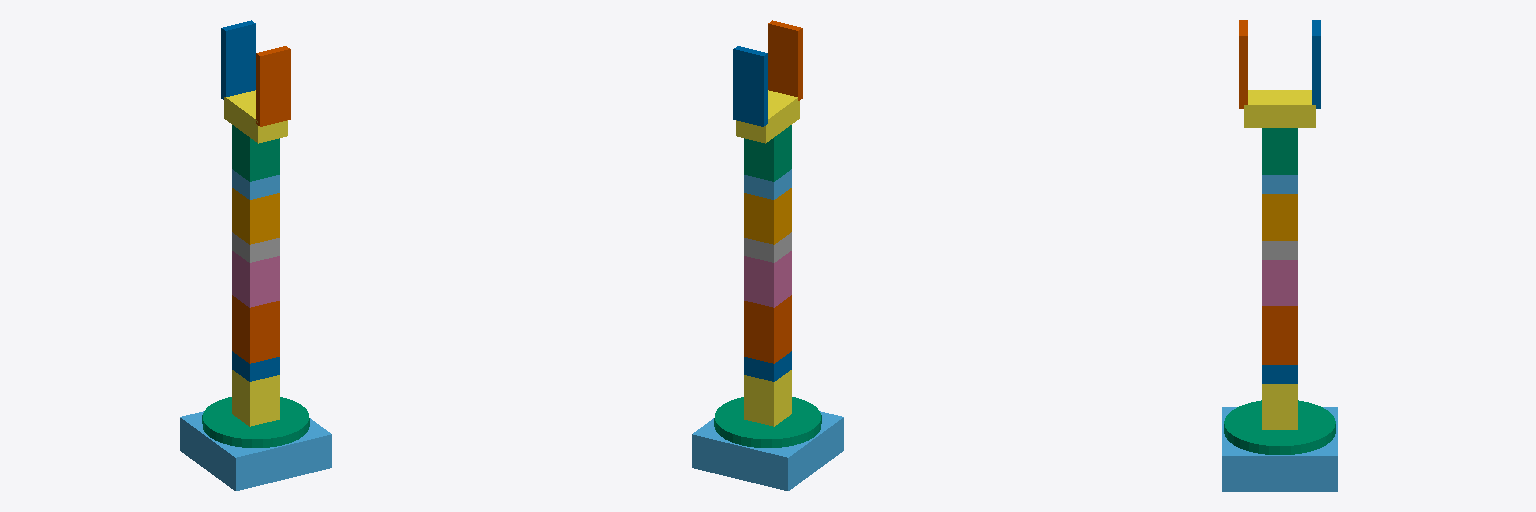
URDF robot description (crustcrawler):
<?xml version="1.0"?>
<robot name="crustcrawler">

<!-- Fixing robot to world frame-->
<link name="world">
  <origin xyz="0 0 -100" rpy="0 0 0"/>
</link>
<joint name="fixed" type="fixed">
    <parent link="world"/>
    <child link="base_link"/>
</joint>

<!-- Base -->
<link name="base_link">
  <visual>
    <geometry>
      <box size ="0.1143 0.1143 0.0381"/>
    </geometry>
    <origin xyz="0 0 0" rpy="0 0 0"/>
  </visual>
<inertial>
  <origin xyz="0 0 0" rpy="0 0 0"/>
  <mass value="2"/>
  <inertia ixx="1" ixy="0" ixz="0" iyy="1" iyz="0" izz="1" />
</inertial>
</link>

<!-- First Joint -->
<link name="turntable">
  <visual>
    <geometry>
      <cylinder radius= "0.055" length= "0.01"/>
    </geometry>
    <origin xyz ="0 0 0" rpy="0 0 0"/>
  </visual>
  <inertial>
     <origin xyz="0 0 0" rpy="0 0 0"/>
     <mass value="0.05"/>
     <inertia ixx="0.082" ixy="0" ixz="0" iyy="0.082" iyz="0" izz="0.076" />
   </inertial>

</link>
<joint name="base_to_turntable" type="continuous">
  <parent link="base_link"/>
  <child link="turntable"/>
  <origin xyz="0 0 0.02405" rpy="0 0 0"/>
  <axis xyz ="0 0 1"/>
</joint>


<!-- Second Joint -->
<link name="second_motor">
  <visual>
    <geometry>
      <box size ="0.0356 0.0355 0.0506"/>
    </geometry>
    <origin xyz ="0 0 0.0253" rpy="0 0 0"/>
  </visual>
<inertial>
   <origin xyz="0 0 0.0253" rpy="0 0 0"/>
   <mass value="0.126"/>
   <inertia ixx="0.04" ixy="0" ixz="0"
            iyy="0.04" iyz="0"
            izz="0.0456" />
 </inertial>
</link>
<joint name="turntable_to_second_motor" type="fixed">
  <parent link="turntable"/>
  <child link="second_motor"/>
  <origin xyz="0 0 0.005" rpy="0 0 0"/>
  <axis xyz ="1 0 0"/>
</joint>

<link name="first_mounting_plate">
  <visual>
    <geometry>
      <box size ="0.0356 0.0355 0.0206"/>
    </geometry>
    <origin xyz ="0 0 0.0103" rpy="0 0 0"/>
  </visual>
<inertial>
   <origin xyz="0 0 0.0103" rpy="0 0 0"/>
   <mass value="0.01"/>
   <inertia ixx="0.0014" ixy="0" ixz="0"
            iyy="0.0014" iyz="0"
            izz="0.0021" />
 </inertial>
</link>
<joint name="second_motor_to_first_mounting_plate" type="continuous">
  <parent link="second_motor"/>
  <child link="first_mounting_plate"/>
  <origin xyz="0 0 0.0506" rpy="0 0 0" />
  <axis xyz ="1 0 0"/>
  <limit effort="0.1" velocity="50"/>
</joint>
<!-- over var det rpy = 1.57 0 0-->

<!-- Girder -->
<link name="girder">
  <visual>
    <geometry>
    <box size ="0.0356 0.0355 0.0635"/>
    </geometry>
    <origin xyz ="0 0 0.03175" rpy="0 0 0"/>
  </visual>
  <inertial>
     <origin xyz="0 0 0.03175" rpy="0 0 0"/>
     <mass value="0.03"/>
     <inertia ixx="0.0176" ixy="0" ixz="0" iyy="0.0176" iyz="0" izz="0.00842" />
   </inertial>
</link>
<joint name="first_mounting_plate_to_girder" type="fixed">
  <parent link="first_mounting_plate"/>
  <child link="girder"/>
  <origin xyz="0 0 0.0206" rpy="0 0 0"/>
  <axis xyz ="1 0 0"/>
</joint>

<!-- Third Joint -->
<link name="third_motor">
  <visual>
    <geometry>
      <box size ="0.0356 0.0355 0.0506"/>
    </geometry>
    <origin xyz ="0 0 0.0253" rpy="0 0 0"/>
  </visual>
<inertial>
   <origin xyz="0 0 0.0253" rpy="0 0 0"/>
   <mass value="0.126"/>
   <inertia ixx="0.04" ixy="0" ixz="0"
            iyy="0.04" iyz="0"
            izz="0.0456" />
 </inertial>
</link>
<joint name="girder_to_third_motor" type="fixed">
  <parent link="girder"/>
  <child link="third_motor"/>
  <origin xyz="0 0 0.0635" rpy="0 0 0"/>
  <axis xyz ="1 0 0"/>
</joint>
<link name="second_mounting_plate">
  <visual>
    <geometry>
      <box size ="0.0356 0.0355 0.0206"/>
    </geometry>
    <origin xyz ="0 0 0.0103" rpy="0 0 0"/>
  </visual>
<inertial>
   <origin xyz="0 0 0.0103" rpy="0 0 0"/>
   <mass value="0.01"/>
   <inertia ixx="0.0014" ixy="0" ixz="0"
            iyy="0.0014" iyz="0"
            izz="0.0021" />
 </inertial>
</link>
<joint name="third_motor_to_second_mounting_plate" type="continuous">
  <parent link="third_motor"/>
  <child link="second_mounting_plate"/>
  <origin xyz="0 0 0.0506" rpy="0 0 0" />
  <axis xyz ="1 0 0"/>
  <!--limit effort="10" velocity="50"/-->
</joint>

<!-- Fourth Joint -->
<link name="fourth_motor">
  <visual>
    <geometry>
      <box size ="0.0356 0.0355 0.0506"/>
    </geometry>
    <origin xyz ="0 0 0.0253" rpy="0 0 0"/>
  </visual>
<inertial>
   <origin xyz="0 0 0.0253" rpy="0 0 0"/>
   <mass value="0.126"/>
   <inertia ixx="0.04" ixy="0" ixz="0"
            iyy="0.04" iyz="0"
            izz="0.0456" />
 </inertial>
</link>
<joint name="second_mounting_plate_to_fourth_motor" type="fixed">
  <parent link="second_mounting_plate"/>
  <child link="fourth_motor"/>
  <origin xyz="0 0 0.0206" rpy="0 0 0"/>
  <axis xyz ="1 0 0"/>
</joint>

<link name="third_mounting_plate">
  <visual>
    <geometry>
      <box size ="0.0356 0.0355 0.0206"/>
    </geometry>
    <origin xyz ="0 0 0.0103" rpy="0 0 0"/>
  </visual>
<inertial>
   <origin xyz="0 0 0.0103" rpy="0 0 0"/>
   <mass value="0.01"/>
   <inertia ixx="0.0014" ixy="0" ixz="0"
            iyy="0.0014" iyz="0"
            izz="0.0021" />
 </inertial>
</link>
<joint name="fourth_motor_to_third_mounting_plate" type="continuous">
  <parent link="fourth_motor"/>
  <child link="third_mounting_plate"/>
  <origin xyz="0 0 0.0506" rpy="0 0 0" />
  <axis xyz ="1 0 0"/>
  <!--OVer var det rpy = -1.57 0 0 -->
</joint>

<!-- Fifth Joint -->
<link name="wrist_rk">
  <visual>
    <geometry>
      <box size ="0.0356 0.0355 0.0506"/>
    </geometry>
    <origin xyz ="0 0 0.0253" rpy="0 0 0"/>
  </visual>
  <inertial>
     <origin xyz="0 0 0.0253" rpy="0 0 0"/>
     <mass value="0.126"/>


     <inertia ixx="0.04" ixy="0" ixz="0"
              iyy="0.04" iyz="0"
              izz="0.0456" />

   </inertial>

</link>
<joint name="third_mounting_plate_to_wrist_rk" type="fixed">
  <parent link="third_mounting_plate"/>
  <child link="wrist_rk"/>
  <origin xyz="0 0 0.0206" rpy="0 0 0"/>
  <axis xyz ="0 0 1"/>
</joint>

<link name="wrist">
  <visual>
    <geometry>
      <box size ="0.0356 0.071 0.0253"/>
    </geometry>
    <origin xyz ="0 0 0.01265" rpy="0 0 0"/>
  </visual>
  <inertial>
     <origin xyz="0 0 0.01265" rpy="0 0 0"/>
     <mass value="0.126"/>
     <!--inertia ixx="1" ixy="0" ixz="0" iyy="1" iyz="0" izz="1" /-->
     <inertia ixx="0.0473" ixy="0" ixz="0" iyy="0.0158" iyz="0" izz="0.0131" />

   </inertial>
</link>
<joint name="wrist_rk_to_wrist" type="continuous">
  <parent link="wrist_rk"/>
  <child link="wrist"/>
  <origin xyz="0 0 0.0506" rpy="0 0 0"/>
  <axis xyz ="0 0 1"/>
</joint>

<!--Fingers -->
<link name="right_finger">
  <visual>
    <geometry>
      <box size ="0.0356 0.0089 0.08"/>
    </geometry>
    <origin xyz ="0 0 0.04" rpy="0 0 0"/>
  </visual>
  <inertial>
     <origin xyz="0 0 0.04" rpy="0 0 0"/>
     <mass value="0.01"/>
     <inertia ixx="0.0000001" ixy="0" ixz="0" iyy="0.0000001" iyz="0" izz="0.0000001" />
   </inertial>
</link>
<joint name="wrist_to_right_finger" type="fixed">
  <parent link="wrist"/>
  <child link="right_finger"/>
  <origin xyz="0 0.0355 0.0206" rpy="0 0 0"/>
   <limit effort="1000.0" velocity="0.5"/>
  <axis xyz ="1 0 0"/>
</joint>

<link name="left_finger">
  <visual>
    <geometry>
      <box size ="0.0356 0.0089 0.08"/>
    </geometry>
    <origin xyz ="0 0 0.04" rpy="0 0 0"/>
  </visual>
  <inertial>
     <origin xyz="0 0 0.04" rpy="0 0 0"/>
     <mass value="0.01"/>
     <inertia ixx="0.0000001" ixy="0" ixz="0" iyy="0.0000001" iyz="0" izz="0.0000001" />
   </inertial>
</link>
<joint name="wrist_to_left_finger" type="fixed">
  <parent link="wrist"/>
  <child link="left_finger"/>
  <origin xyz="0 -0.0355 0.0206" rpy="0 0 0"/>
   <limit effort="1000.0" velocity="0.5"/>
  <axis xyz ="-1 0 0"/>
</joint>

</robot>

--- Facts derived from the render (not from the file) ---
Views: 3 orthographic renders of the robot side by side, from view 1: azimuth 30°, elevation 25°; view 2: azimuth 150°, elevation 25°; view 3: azimuth 270°, elevation 25°.
Robot: crustcrawler — 14 links, 13 joints (5 continuous, 8 fixed); root link world; default pose: every joint at zero.
Links seen in each view (by area): view 1: base_link, turntable, girder, left_finger, right_finger, second_motor, fourth_motor, third_motor, wrist_rk, wrist, third_mounting_plate, first_mounting_plate (+1 smaller); view 2: base_link, turntable, girder, right_finger, left_finger, second_motor, fourth_motor, third_motor, wrist_rk, wrist, third_mounting_plate, first_mounting_plate (+1 smaller); view 3: base_link, turntable, wrist, girder, fourth_motor, wrist_rk, second_motor, third_motor, right_finger, left_finger, first_mounting_plate, second_mounting_plate (+1 smaller).
Boxes of the visible links, <box> form: base_link: <box>180,411,331,490</box>; turntable: <box>202,397,309,447</box>; girder: <box>232,295,279,363</box>; left_finger: <box>256,46,290,126</box>; right_finger: <box>221,20,255,99</box>; second_motor: <box>232,370,279,426</box>; fourth_motor: <box>232,188,279,244</box>; third_motor: <box>232,251,279,307</box>; wrist_rk: <box>232,125,279,181</box>; wrist: <box>224,90,287,143</box>; third_mounting_plate: <box>232,169,279,199</box>; first_mounting_plate: <box>232,351,279,381</box>; base_link: <box>692,411,843,490</box>; turntable: <box>714,397,821,447</box>; girder: <box>744,295,791,363</box>; right_finger: <box>733,46,767,126</box>; left_finger: <box>768,20,802,100</box>; second_motor: <box>744,370,791,426</box>; fourth_motor: <box>744,188,791,244</box>; third_motor: <box>744,251,791,307</box>; wrist_rk: <box>744,125,791,181</box>; wrist: <box>736,90,799,143</box>; third_mounting_plate: <box>744,169,791,199</box>; first_mounting_plate: <box>744,351,791,381</box>; base_link: <box>1222,407,1337,491</box>; turntable: <box>1224,400,1335,454</box>; wrist: <box>1244,90,1315,127</box>; girder: <box>1262,306,1297,364</box>; fourth_motor: <box>1262,194,1297,240</box>; wrist_rk: <box>1262,128,1297,174</box>; second_motor: <box>1262,384,1297,429</box>; third_motor: <box>1262,260,1297,305</box>; right_finger: <box>1312,20,1320,108</box>; left_finger: <box>1239,20,1247,108</box>; first_mounting_plate: <box>1262,365,1297,383</box>; second_mounting_plate: <box>1262,241,1297,259</box>.
Size in the robot's own frame: 0.1143 by 0.1143 by 0.4764 metres.
Geometry: primitives only (box / cylinder / sphere), no mesh files.